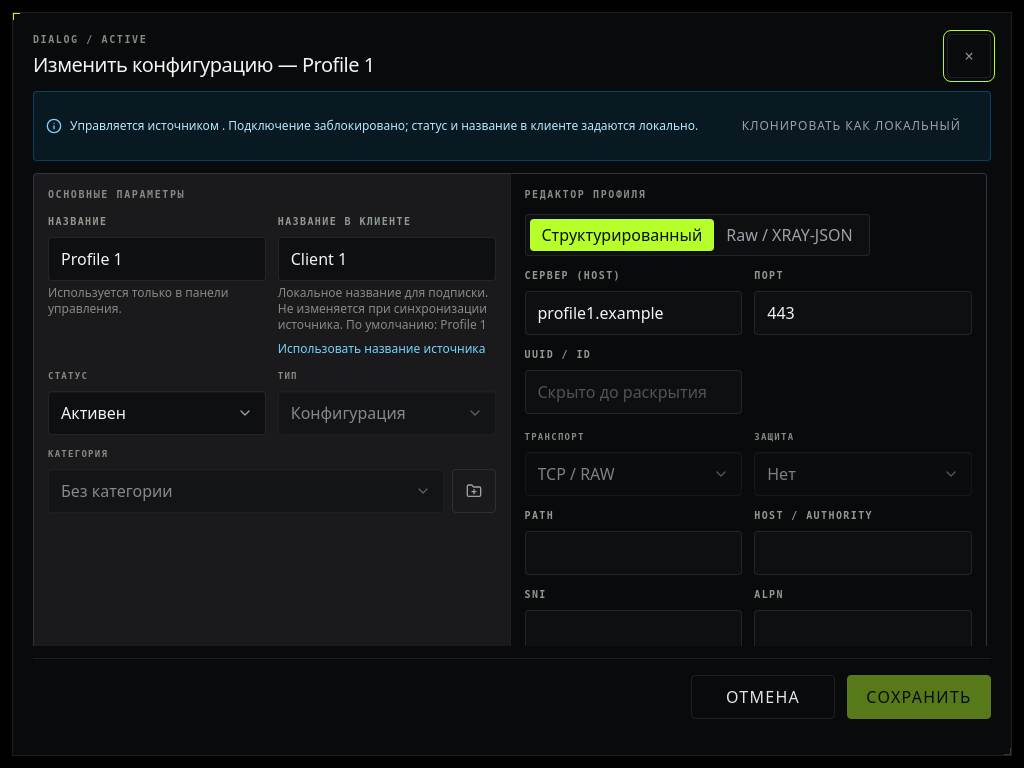
Scenario: editor request failure and dialog contracts › retains the source modal on clone failure
The width and height of the screenshot is (1024, 768).
Expected: the field showing "Profile 1" is shown, [48,237,266,281]
Click the button "Клонировать как локальный" at [851, 126], box [725,104,978,148]
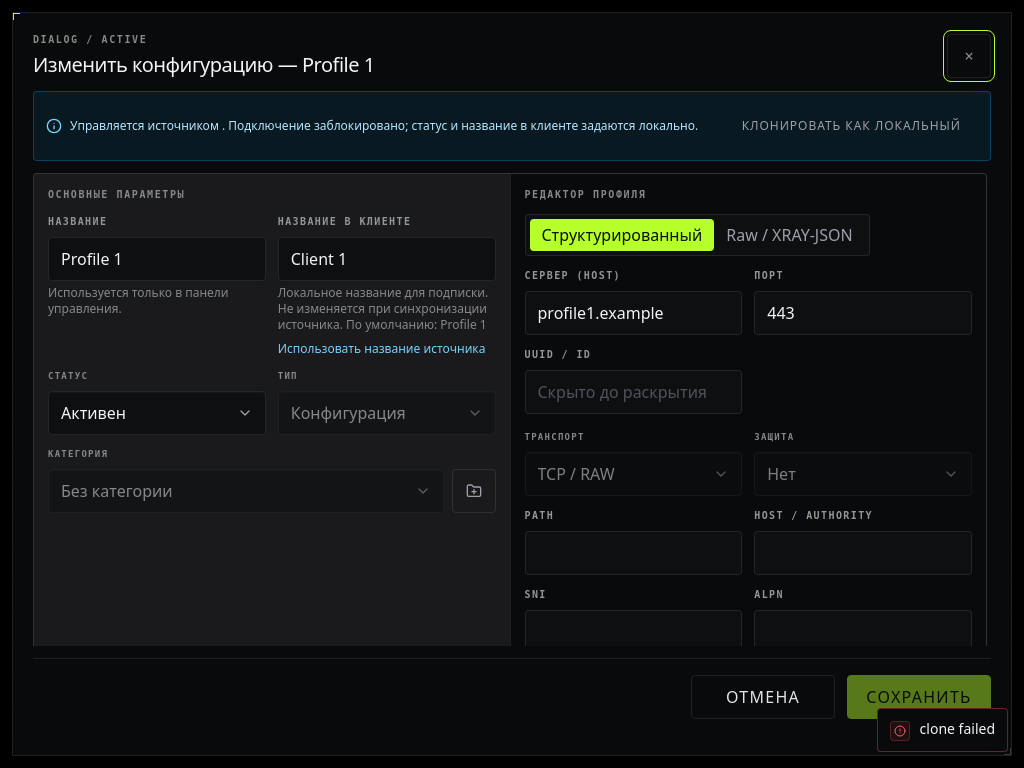
Now the text "clone failed" is shown, box [920,719,995,739]
